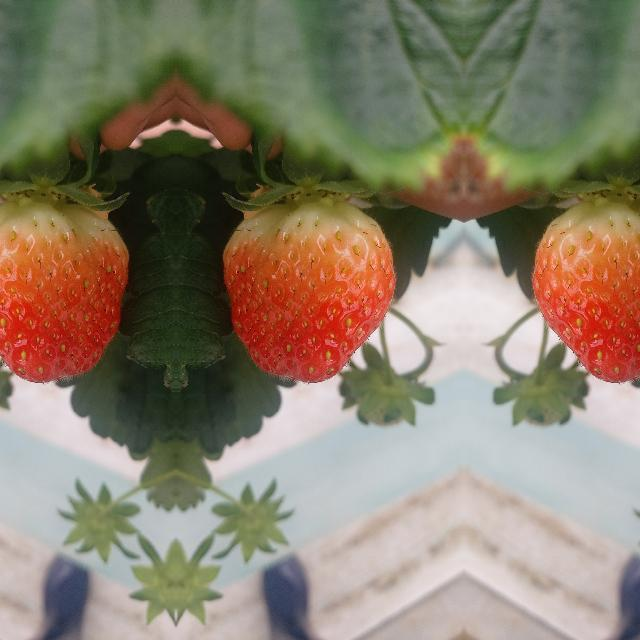Health_100: (222, 191, 394, 383), (0, 191, 128, 383), (532, 191, 640, 383)
